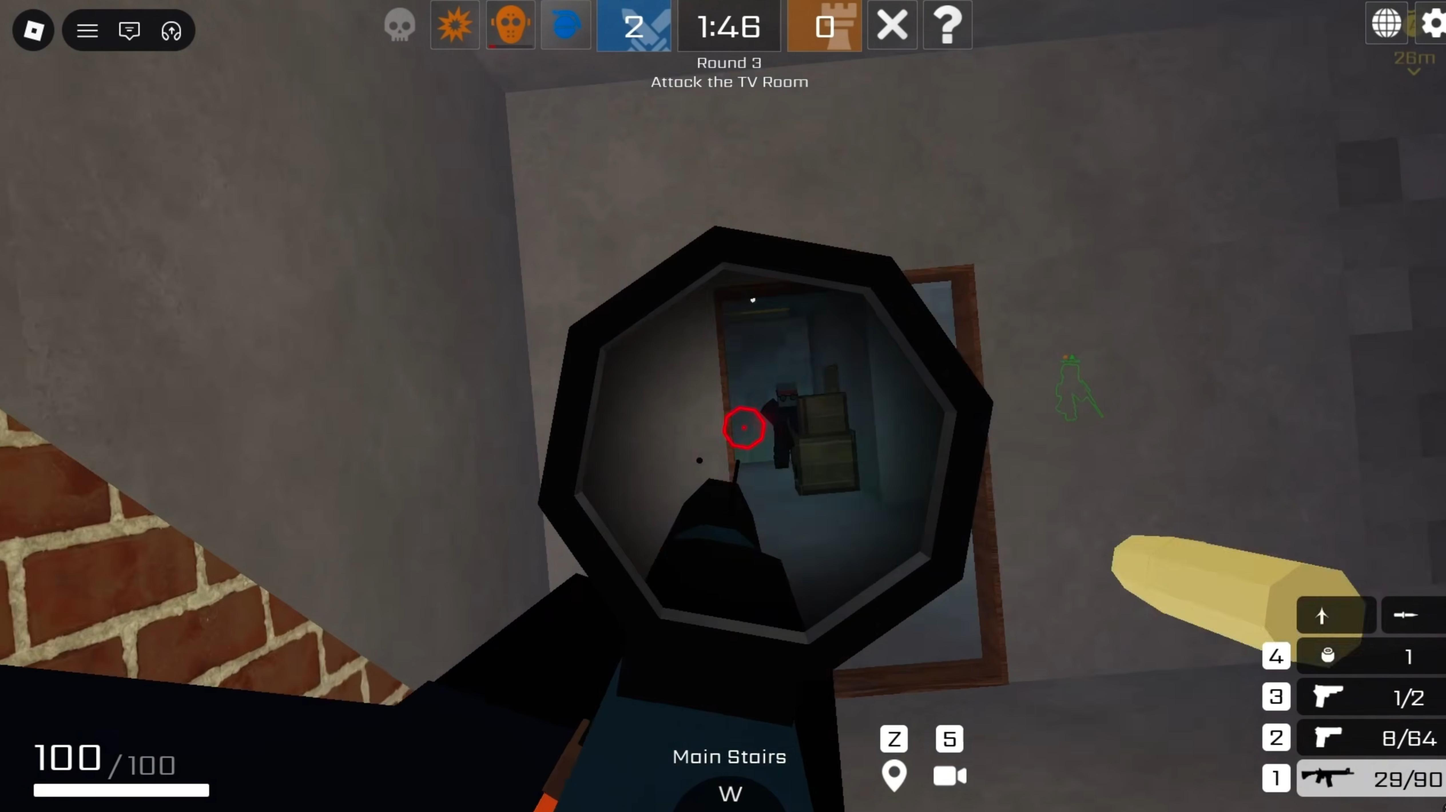enemy: (760, 380, 815, 477)
